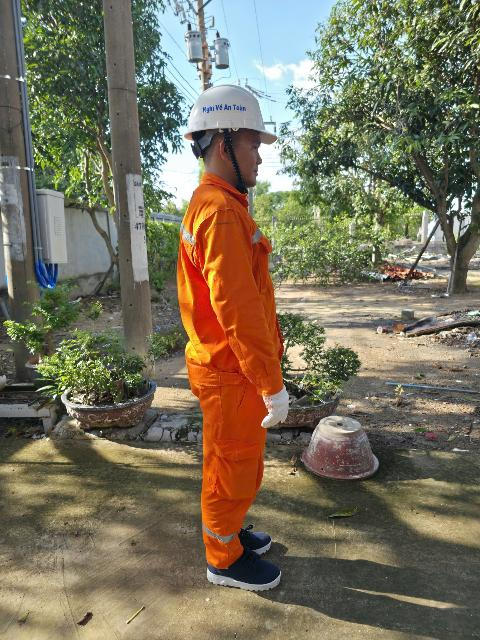gloves: (260, 374, 306, 438)
helmet: (185, 78, 283, 147)
shoes: (210, 547, 283, 592), (207, 518, 277, 553)
